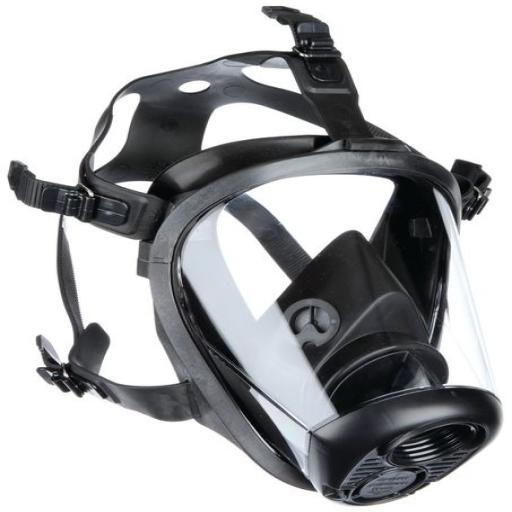mask: (3, 23, 512, 498)
